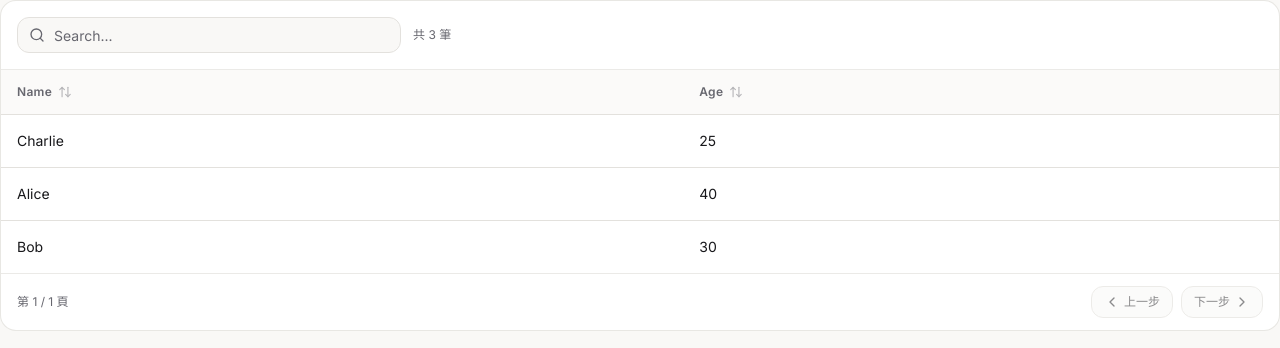
it: DataTable › filters rows via the search column
Type "ali" into the field with placeholder "Search..." at [209, 35], box x1=17 y1=17 x2=401 y2=53
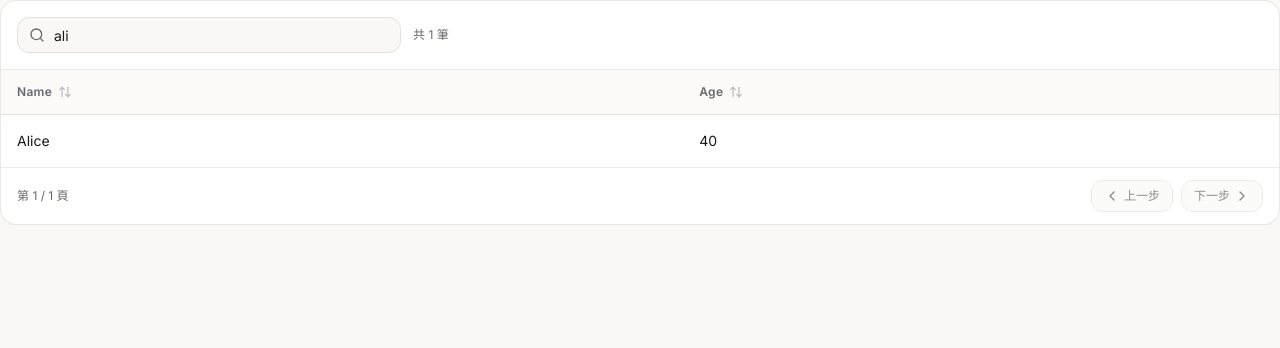
Expected: the text "Alice" is shown, x1=1 y1=114 x2=683 y2=166
Now the text "Bob" is gone
Now the text "Charlie" is gone
